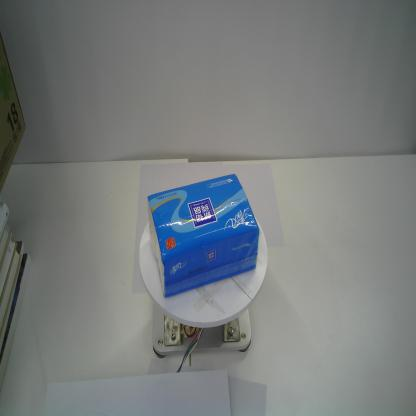Tissue: (146, 172, 261, 298)
